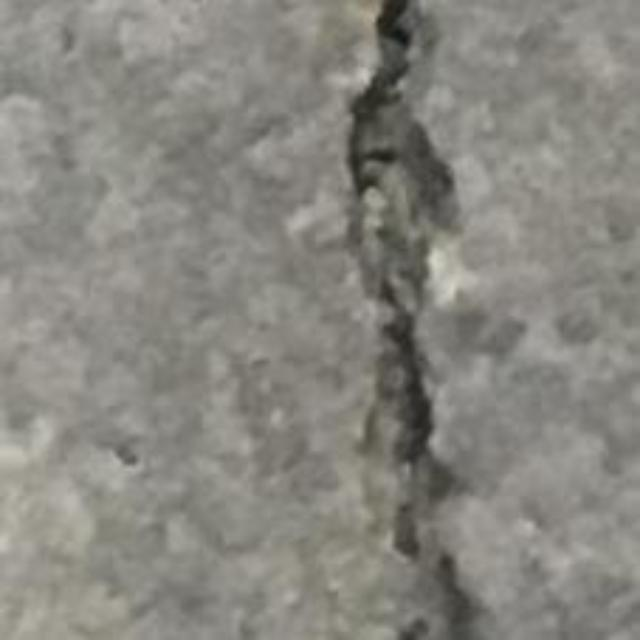crack: (347, 0, 476, 639)
